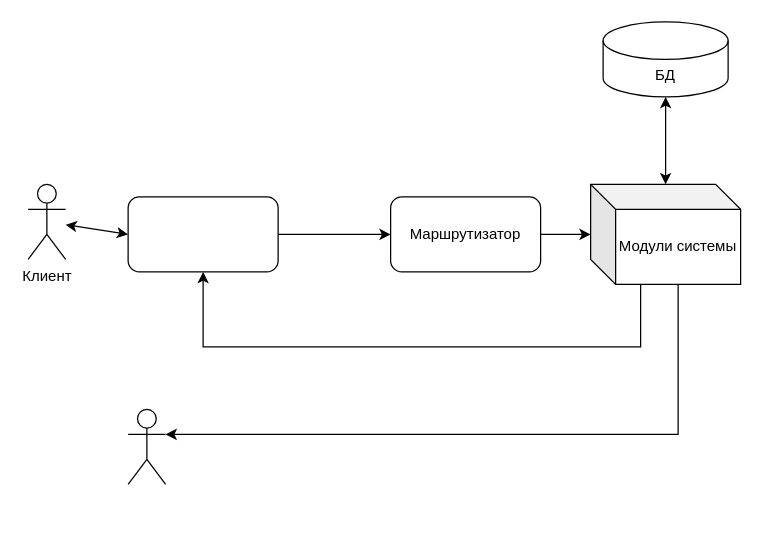
Some shapes in this 763 by 533 pixel diagram are drawn without their labels. Here are the shapes that lost their labels. From the top down, the centre of each, then its label:
the point at 202,234: Интерфейс
the point at 146,446: Специалист службы поддержки
